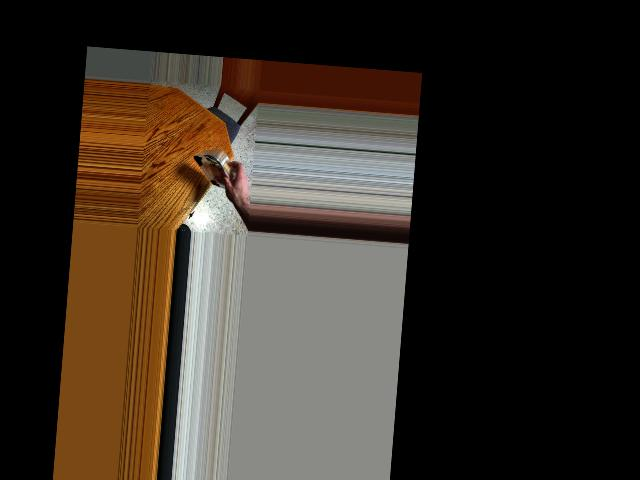cheese: (190, 140, 236, 201)
